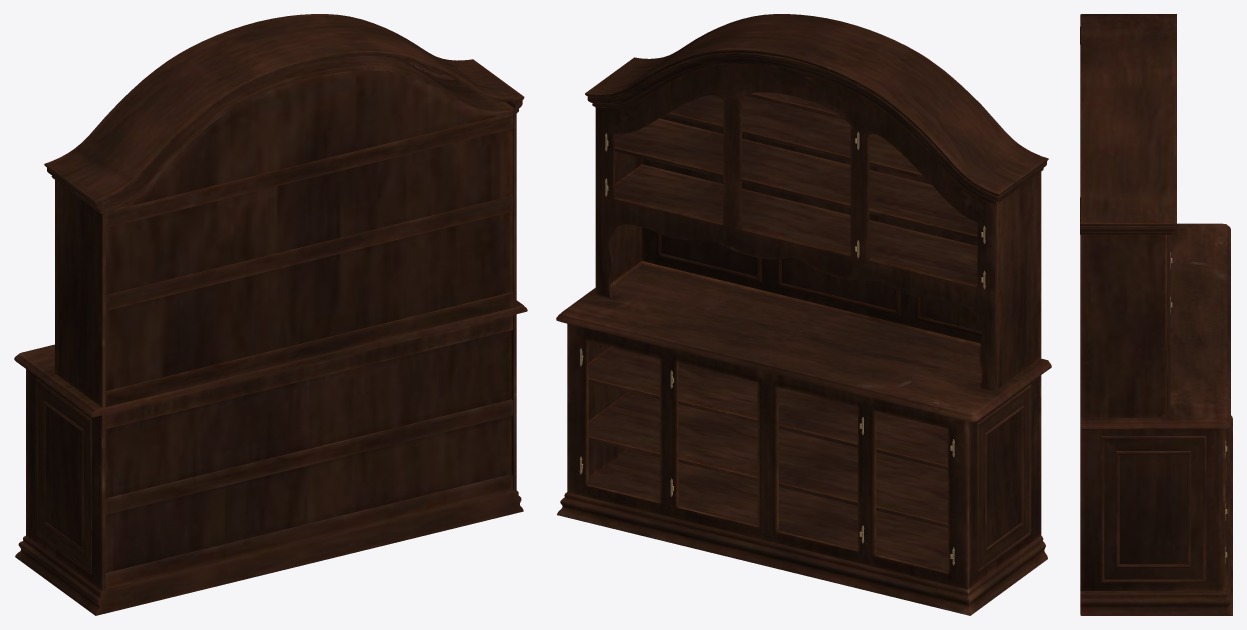
File: cabinet-display.lod1.glb
The picture shows the model from 3 angles, left to right: view 1: azimuth 30°, elevation 25°; view 2: azimuth 150°, elevation 25°; view 3: azimuth 270°, elevation 25°; orthographic projection. The views are drawn at different scales.
Visible parts, largest first — view 1: cabinet-display; view 2: cabinet-display; view 3: cabinet-display.
Part boxes in pixels (x1,y1,x2,y2): cabinet-display: (14, 14, 527, 615); cabinet-display: (556, 14, 1051, 615); cabinet-display: (1080, 14, 1232, 615).
Bounding box in the file's own units: 2.02 × 2.23 × 0.6483.
Materials: 2 (2 with a texture image).
